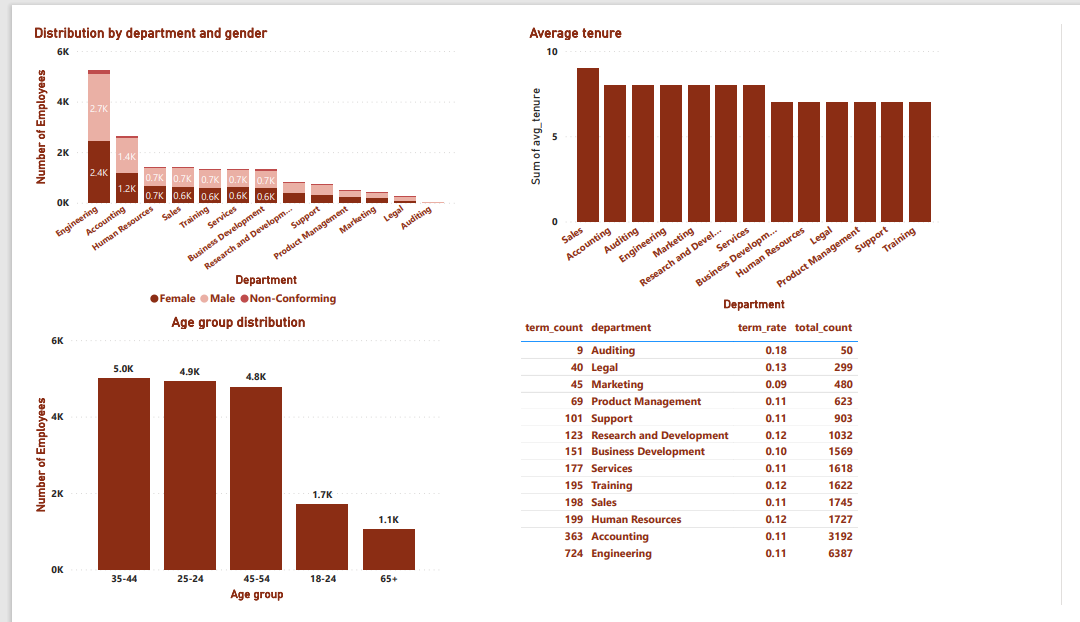

What the dashboard file says about the page in this screenshot:
{"tool":"powerbi","page":{"name":"Page 2","canvas":[1280,720],"ordinal":1},"visuals":[{"type":"columnChart","title":"Age group distribution","fields":{"Category":["age_group.age_group"],"Y":["Sum(age_group.count)"]},"box":[0,359.3,516.7,361.1],"z":0},{"type":"columnChart","title":"Distribution by department and gender","fields":{"Category":["deptgender.department"],"Y":["Sum(deptgender.count)"],"Series":["deptgender.gender"]},"box":[0,0,533.3,359.3],"z":1000},{"type":"tableEx","fields":{"Values":["term_rate.term_count","term_rate.department","term_rate.term_rate","term_rate.total_count"]},"box":[603.8,359.6,534.6,359.6],"z":2000},{"type":"clusteredColumnChart","title":"Average tenure","fields":{"Category":["avg_tenure.department"],"Y":["Sum(avg_tenure.avg_tenure)"]},"box":[615.4,0,523.1,359.6],"z":3000}]}

Visuals, with their boxes in screenshot pixels (x1, y1, x2, y2), scaled from the page's 1280x720 canvas onto the 1080x622 screenshot:
"Age group distribution" columnChart: bbox(0, 310, 436, 621)
"Distribution by department and gender" columnChart: bbox(0, 0, 450, 310)
tableEx - term_rate.term_count x term_rate.department: bbox(509, 311, 961, 621)
"Average tenure" clusteredColumnChart: bbox(519, 0, 961, 311)
